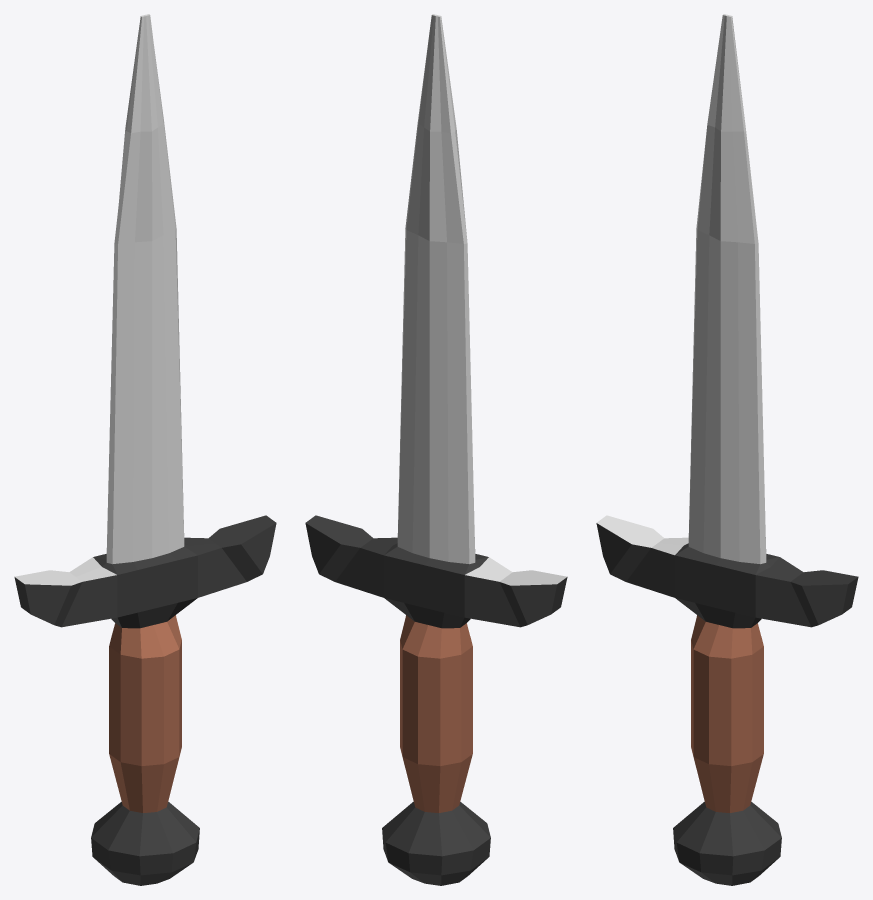
File: Dagger Small.fbx
3 views of the same model, side by side, from view 1: azimuth 30°, elevation 25°; view 2: azimuth 150°, elevation 25°; view 3: azimuth 330°, elevation 25° (orthographic).
Visible parts, largest first — view 1: Sword Dagger; view 2: Sword Dagger; view 3: Sword Dagger.
Boxes of the visible parts, box(x1,y1,x2,y2) form: Sword Dagger: box(14, 14, 276, 885); Sword Dagger: box(305, 14, 567, 885); Sword Dagger: box(596, 14, 858, 885).
Size of the model in its own units: 14.25 by 46.5 by 5.46.
